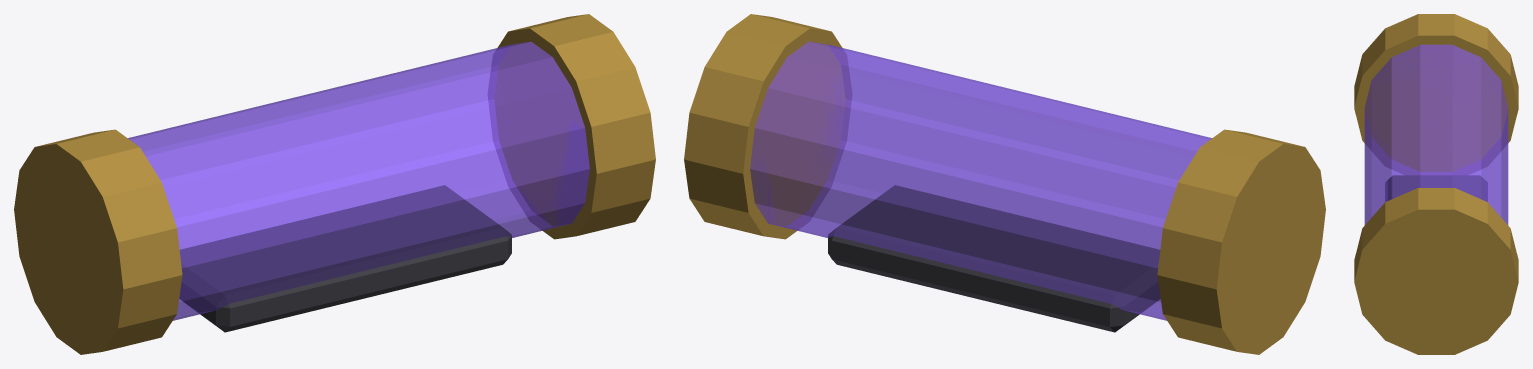
File: uv-lamp.glb
The picture shows the model from 3 angles, left to right: view 1: azimuth 30°, elevation 25°; view 2: azimuth 150°, elevation 25°; view 3: azimuth 270°, elevation 25°; orthographic projection. The views are drawn at different scales.
Visible parts, largest first — view 1: Pickup_UV_Lamp; view 2: Pickup_UV_Lamp; view 3: Pickup_UV_Lamp.
Part boxes in pixels (x1=…): Pickup_UV_Lamp: x1=14, y1=14, x2=655, y2=354; Pickup_UV_Lamp: x1=684, y1=14, x2=1325, y2=354; Pickup_UV_Lamp: x1=1354, y1=14, x2=1518, y2=354.
Bounding box in the file's own units: 0.18 × 0.0624 × 0.064.
